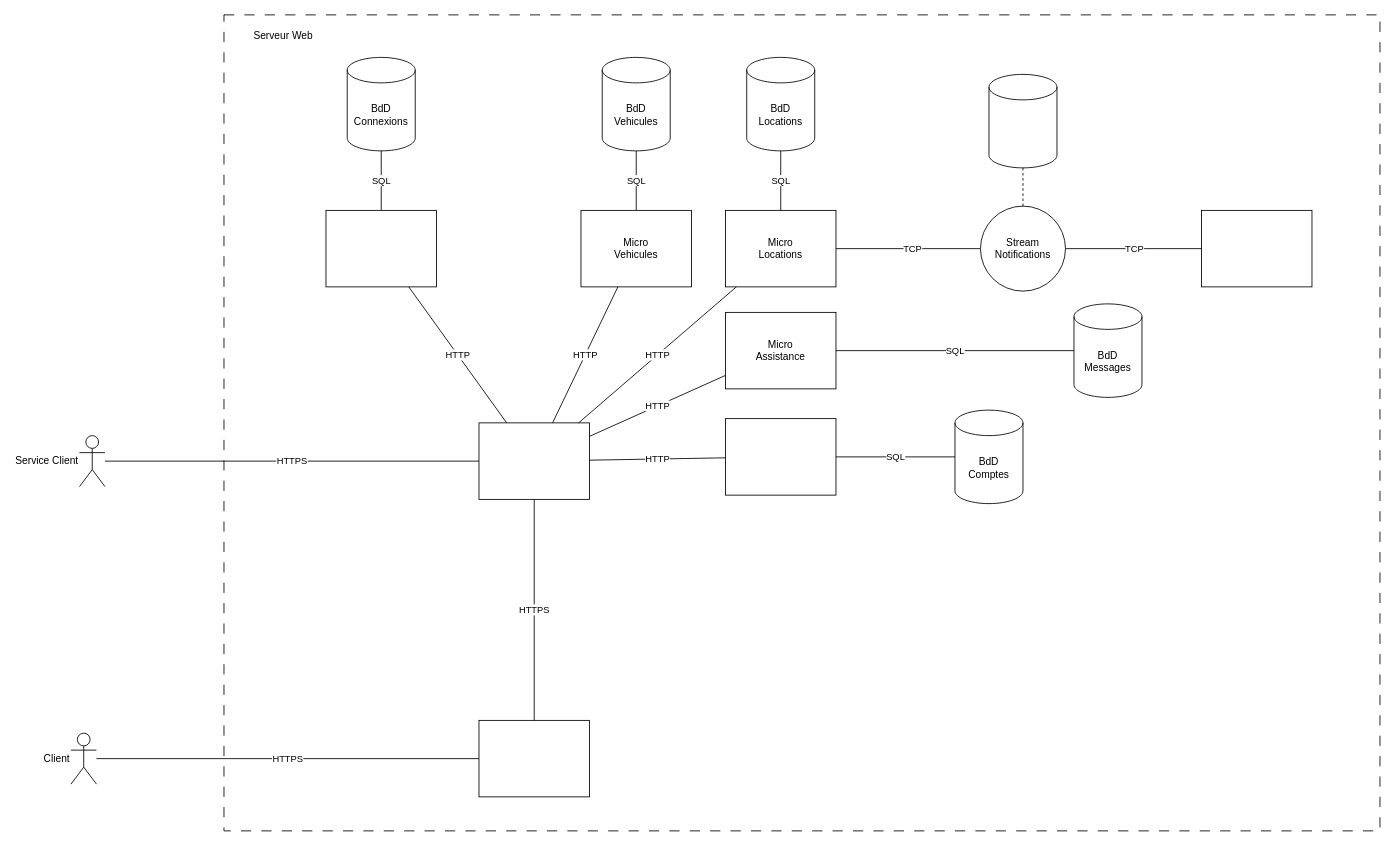
Image size: 1395x846. Some labels were removed from this diagram. Here are the shapes that lost their labels. From the top down, the centre of each, then its label:
At (x=1022, y=121): "Redis".
At (x=380, y=248): "Micro Authentification".
At (x=1256, y=248): "Micro Notifications".
At (x=533, y=460): "Gateway".
At (x=780, y=456): "Micro Utilisateurs".
At (x=533, y=758): "Application Angular".
